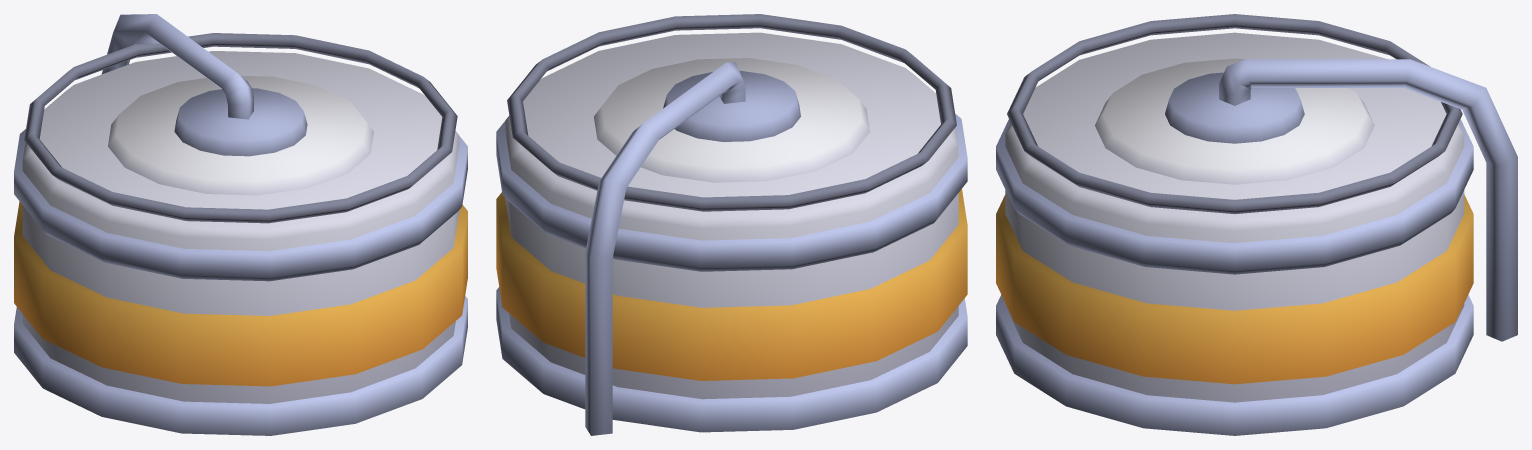
Rendered from espacios-confinados.glb.
The picture shows the model from 3 angles, left to right: view 1: azimuth 30°, elevation 25°; view 2: azimuth 150°, elevation 25°; view 3: azimuth 270°, elevation 25°; orthographic projection. The views are drawn at different scales.
Parts seen in each view (by area): view 1: detail-tank-large; view 2: detail-tank-large; view 3: detail-tank-large.
Part boxes in pixels (x1=…): detail-tank-large: x1=14, y1=14, x2=467, y2=435; detail-tank-large: x1=496, y1=14, x2=967, y2=435; detail-tank-large: x1=996, y1=14, x2=1517, y2=435.
Bounding box in the file's own units: 7.06 × 4.5 × 7.71.
11 materials, 2 textured.
